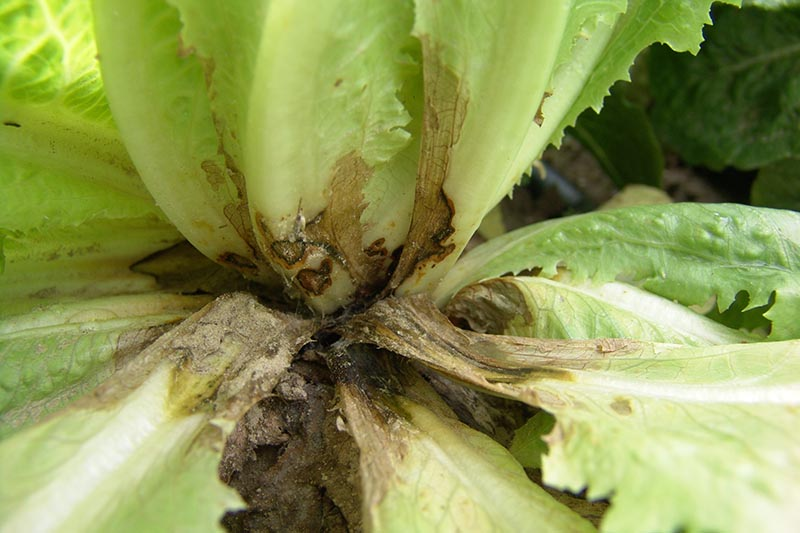lettuce rotten: (76, 60, 665, 488)
